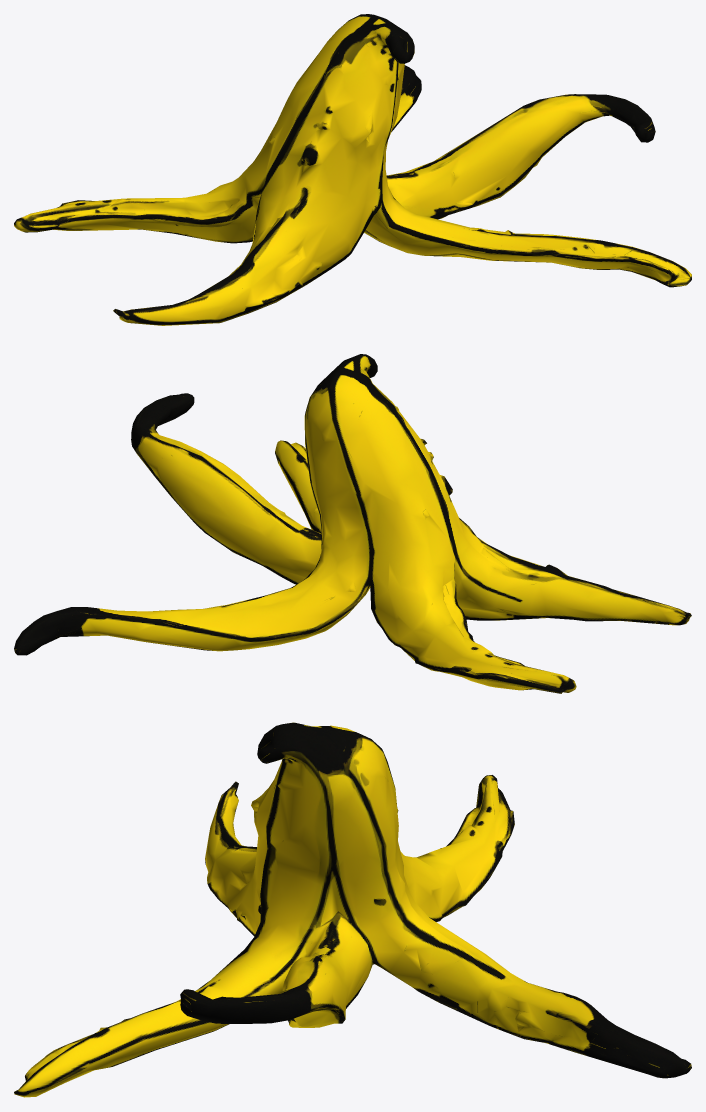
The model's file is Banana_Peel_3D.glb.
The picture shows the model from 3 angles, top to bottom: view 1: azimuth 30°, elevation 25°; view 2: azimuth 150°, elevation 25°; view 3: azimuth 270°, elevation 25°; orthographic projection. The views are drawn at different scales.
Visible parts, largest first — view 1: Mesh_0; view 2: Mesh_0; view 3: Mesh_0.
Part boxes in pixels (box(x1,y1,x2,y2)): Mesh_0: box(14, 14, 691, 325); Mesh_0: box(14, 354, 691, 693); Mesh_0: box(14, 722, 691, 1097).
Size of the model in its own units: 1.91 by 0.772 by 1.76.
1 material, 1 textured.
